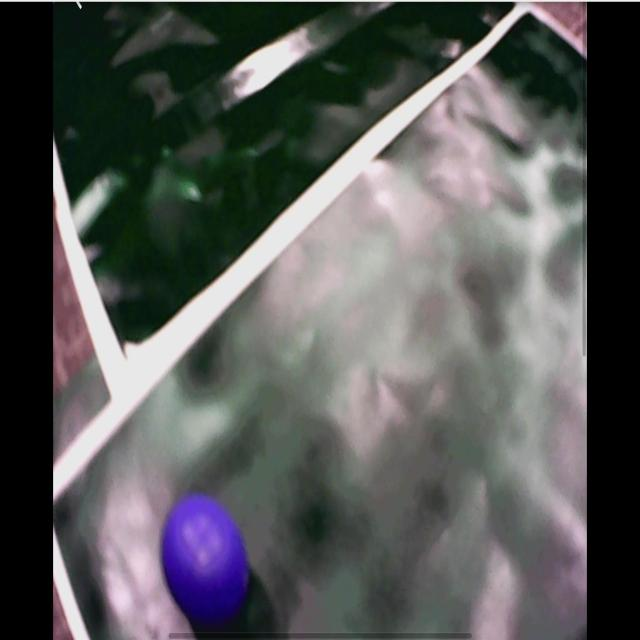ball: (163, 495, 248, 622)
